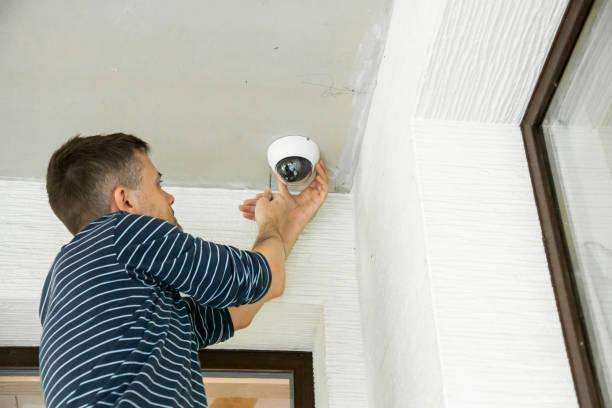camera: (243, 111, 349, 211)
